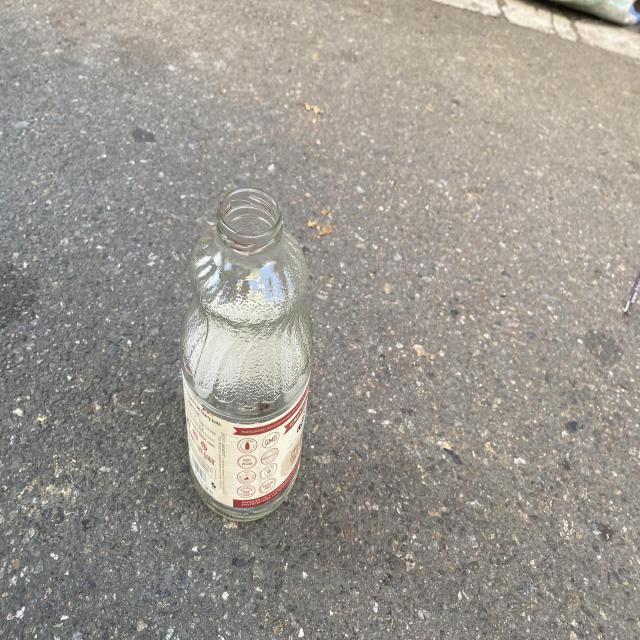glass: (180, 188, 313, 521)
